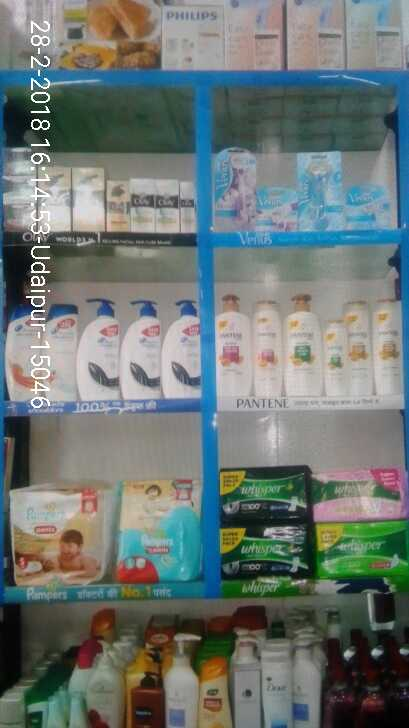venus: (301, 145, 345, 234), (213, 150, 261, 228), (345, 182, 387, 234), (261, 186, 296, 228)
